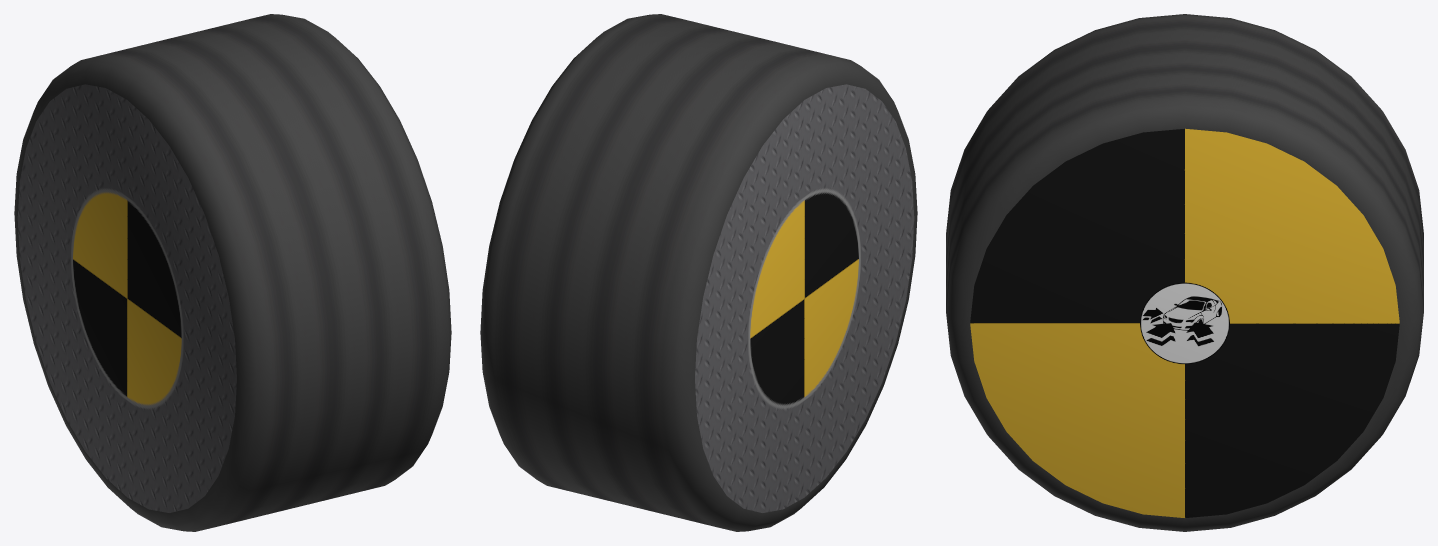
File: Dummy Wheel Left.fbx
3 renders of one model, left to right at view 1: azimuth 30°, elevation 25°; view 2: azimuth 150°, elevation 25°; view 3: azimuth 270°, elevation 25°, orthographic. The views are drawn at different scales.
Visible parts, largest first — view 1: Dummy Wheel Left; view 2: Dummy Wheel Left; view 3: Dummy Wheel Left.
Part boxes in pixels (bbox=[...]): Dummy Wheel Left: bbox=[14, 14, 451, 531]; Dummy Wheel Left: bbox=[480, 14, 917, 531]; Dummy Wheel Left: bbox=[946, 14, 1423, 531].
Size of the model in its own units: 1 by 2 by 2.
Materials: 1 (1 with a texture image).
